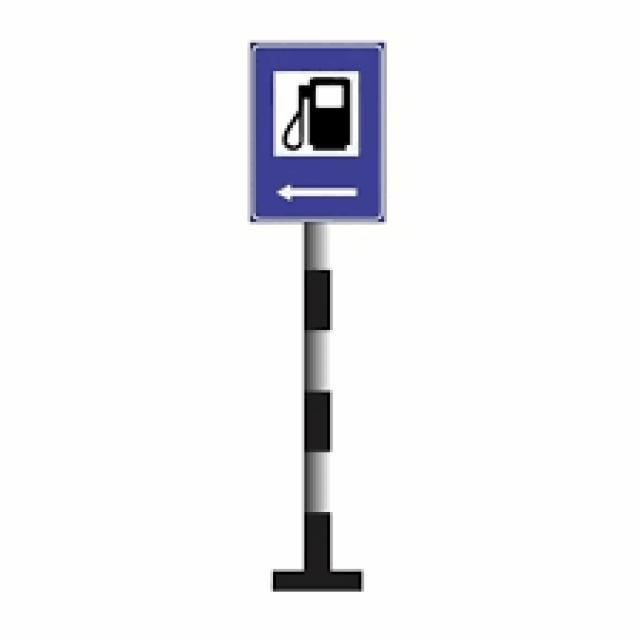petrol pump ahead: (256, 53, 377, 182)
